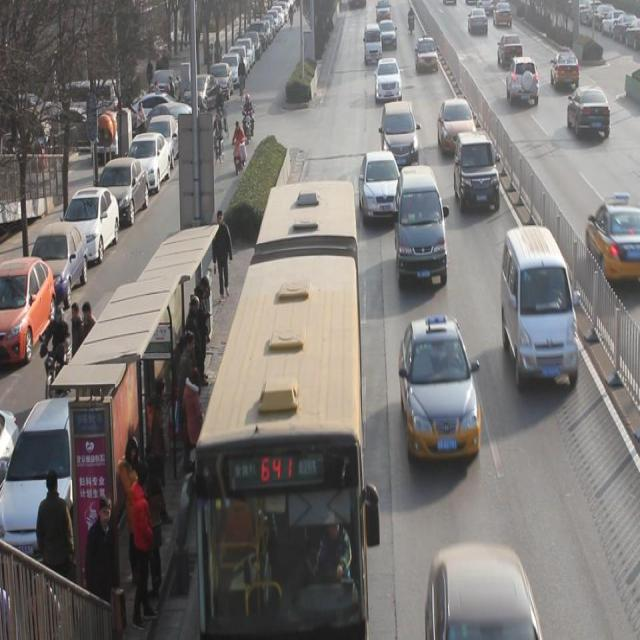car: (398, 316, 481, 461), (586, 196, 640, 286), (454, 130, 501, 215), (359, 150, 402, 226), (380, 101, 419, 164), (567, 86, 610, 138), (437, 99, 476, 156), (506, 56, 540, 106), (375, 56, 402, 102), (551, 50, 580, 89), (415, 36, 439, 73), (497, 34, 523, 66), (378, 18, 398, 48), (468, 7, 489, 34)
truck: (502, 226, 580, 388), (394, 166, 448, 287), (364, 23, 382, 65)
van: (199, 185, 365, 632)
